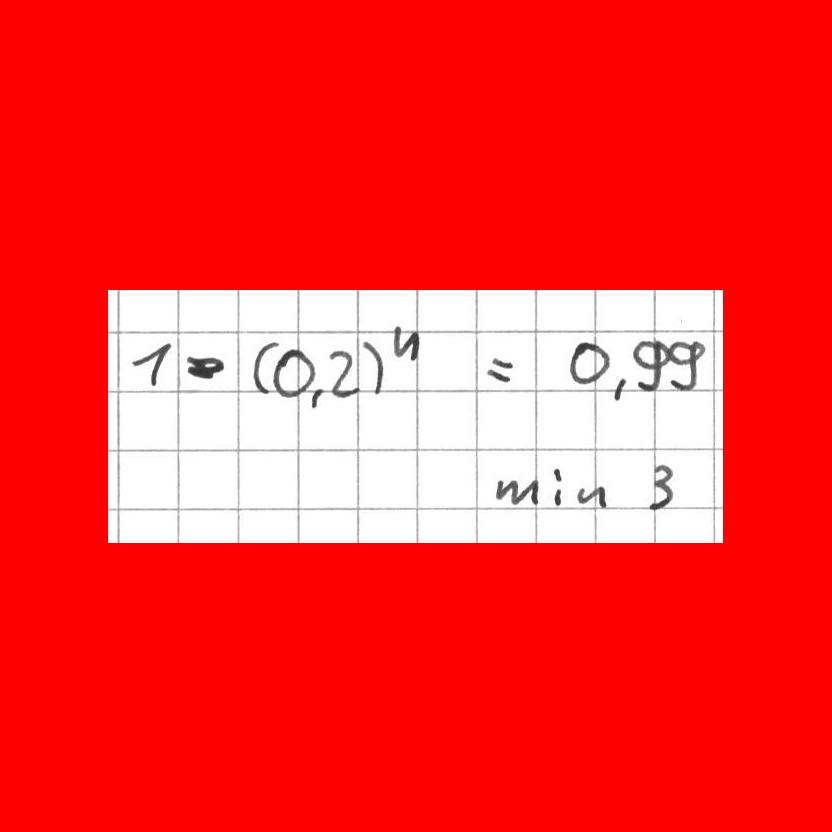Char: (128, 337, 178, 395), (270, 341, 317, 402), (564, 334, 612, 387), (632, 334, 670, 395), (667, 336, 706, 393), (324, 345, 361, 396), (643, 461, 678, 514), (180, 348, 230, 384), (492, 473, 540, 507), (358, 335, 384, 396), (249, 336, 273, 397), (388, 321, 423, 361), (483, 350, 518, 386), (574, 481, 612, 511), (549, 463, 567, 509), (305, 380, 329, 409), (613, 373, 629, 405)
